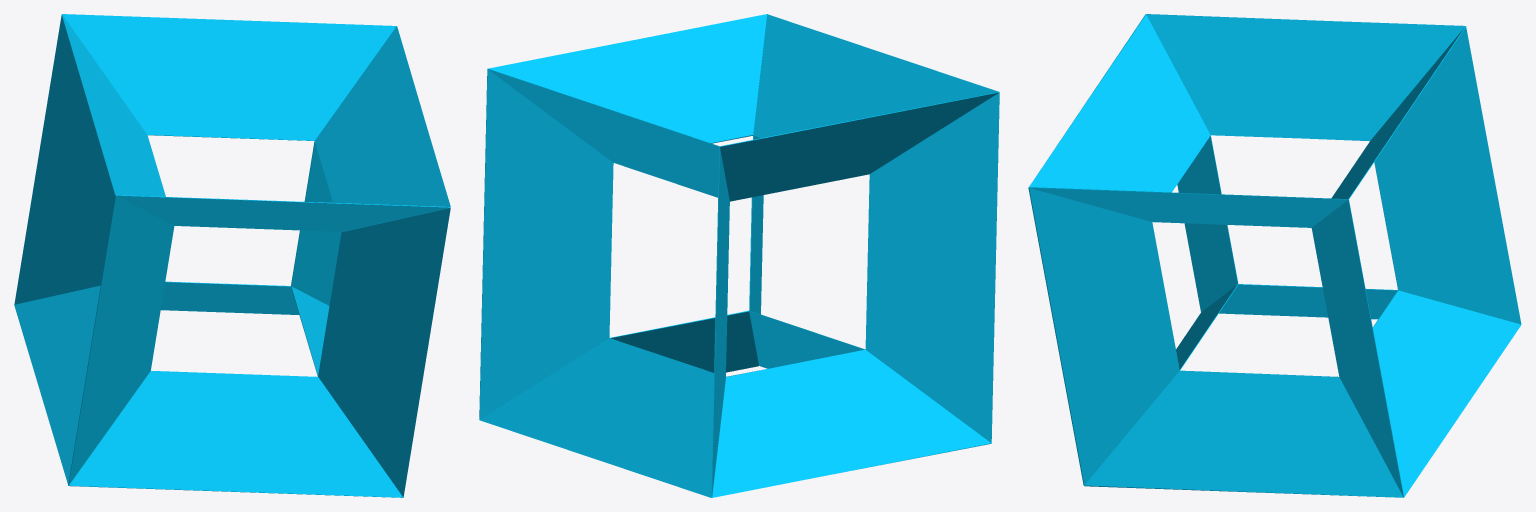
The model's file is cubo_unico.fbx.
3 renders of one model, left to right at view 1: azimuth 30°, elevation 25°; view 2: azimuth 150°, elevation 25°; view 3: azimuth 270°, elevation 25°, orthographic. The views are drawn at different scales.
Visible parts, largest first — view 1: cubo_unico; view 2: cubo_unico; view 3: cubo_unico.
Part boxes in pixels (<box>): cubo_unico: <box>14,14,450,497</box>; cubo_unico: <box>479,14,999,497</box>; cubo_unico: <box>1028,14,1521,497</box>.
Size of the model in its own units: 5690 by 5175 by 6000.
